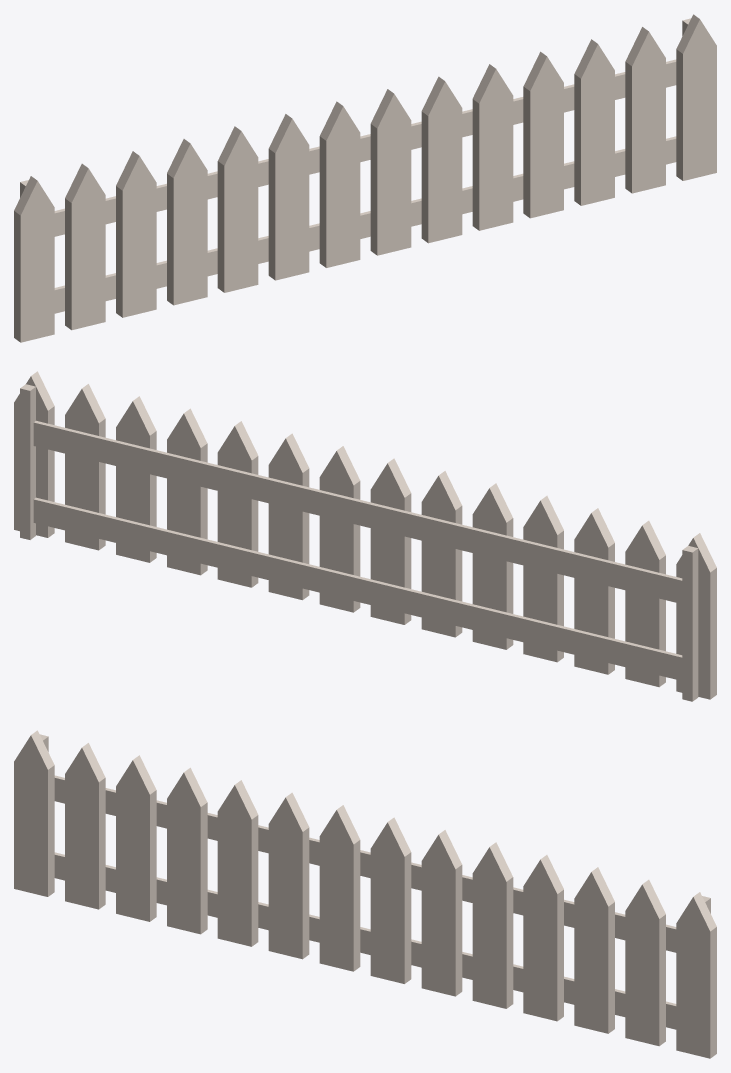
Rendered from fence-1.fbx.
3 renders of one model, top to bottom at view 1: azimuth 30°, elevation 25°; view 2: azimuth 150°, elevation 25°; view 3: azimuth 330°, elevation 25°, orthographic.
Parts seen in each view (by area): view 1: fence-1; view 2: fence-1; view 3: fence-1.
Part boxes in pixels (x1,y1,x2,y2): fence-1: (14,14,716,342); fence-1: (14,371,716,701); fence-1: (14,730,716,1058).
Size of the model in its own units: 263 by 57.18 by 8.22.
